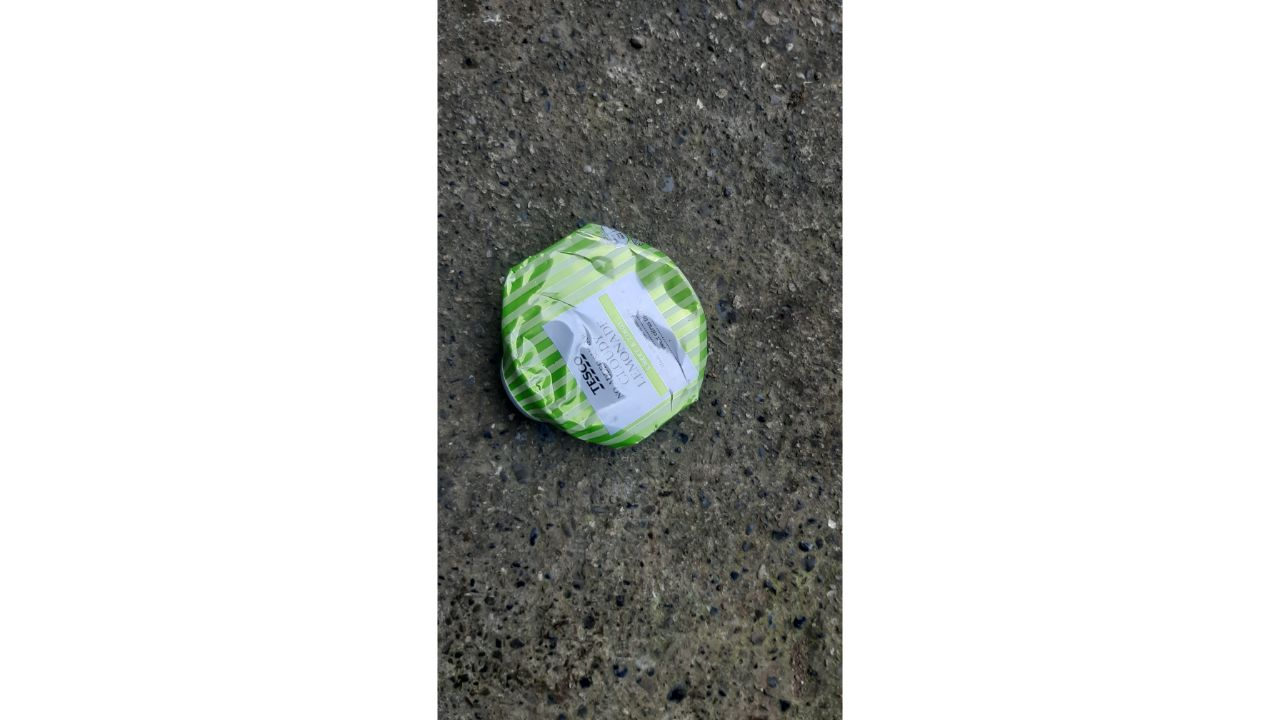Can: (496, 222, 710, 447)
